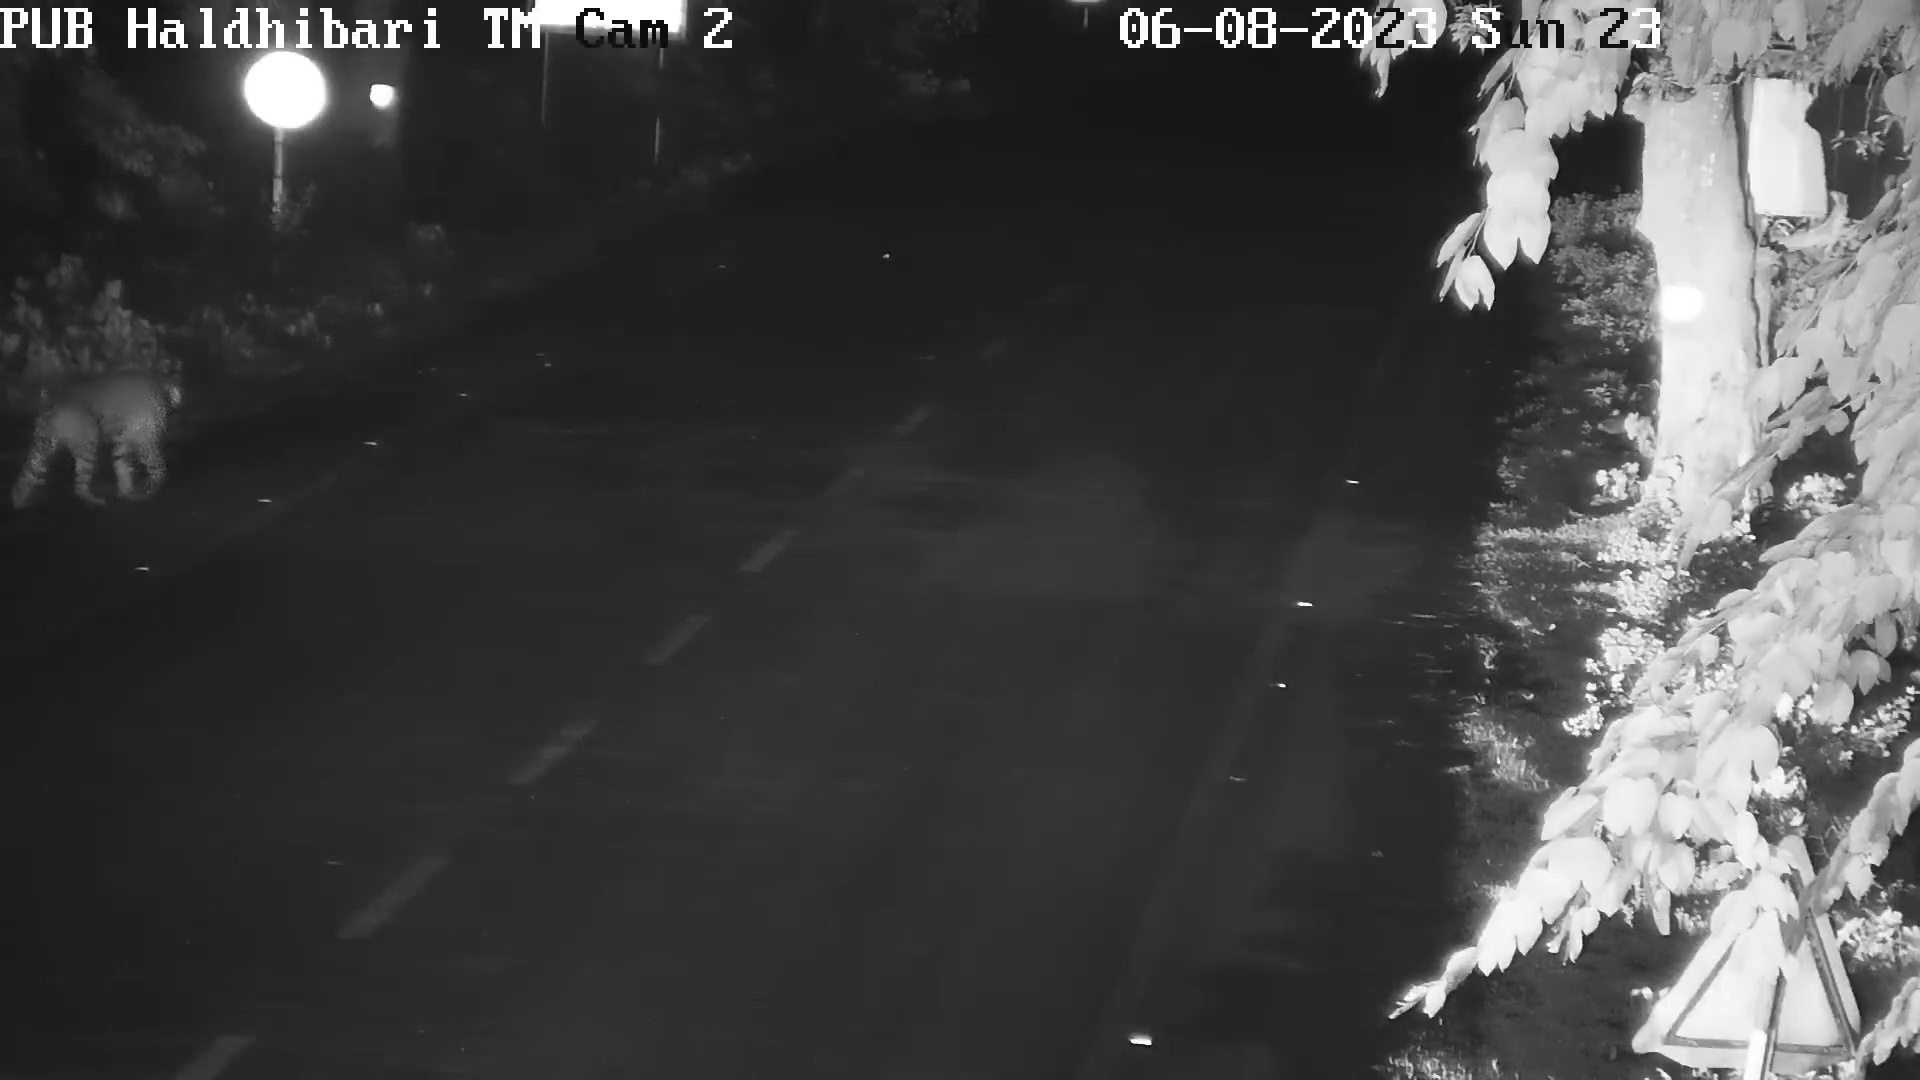tigers: (28, 381, 190, 491)
